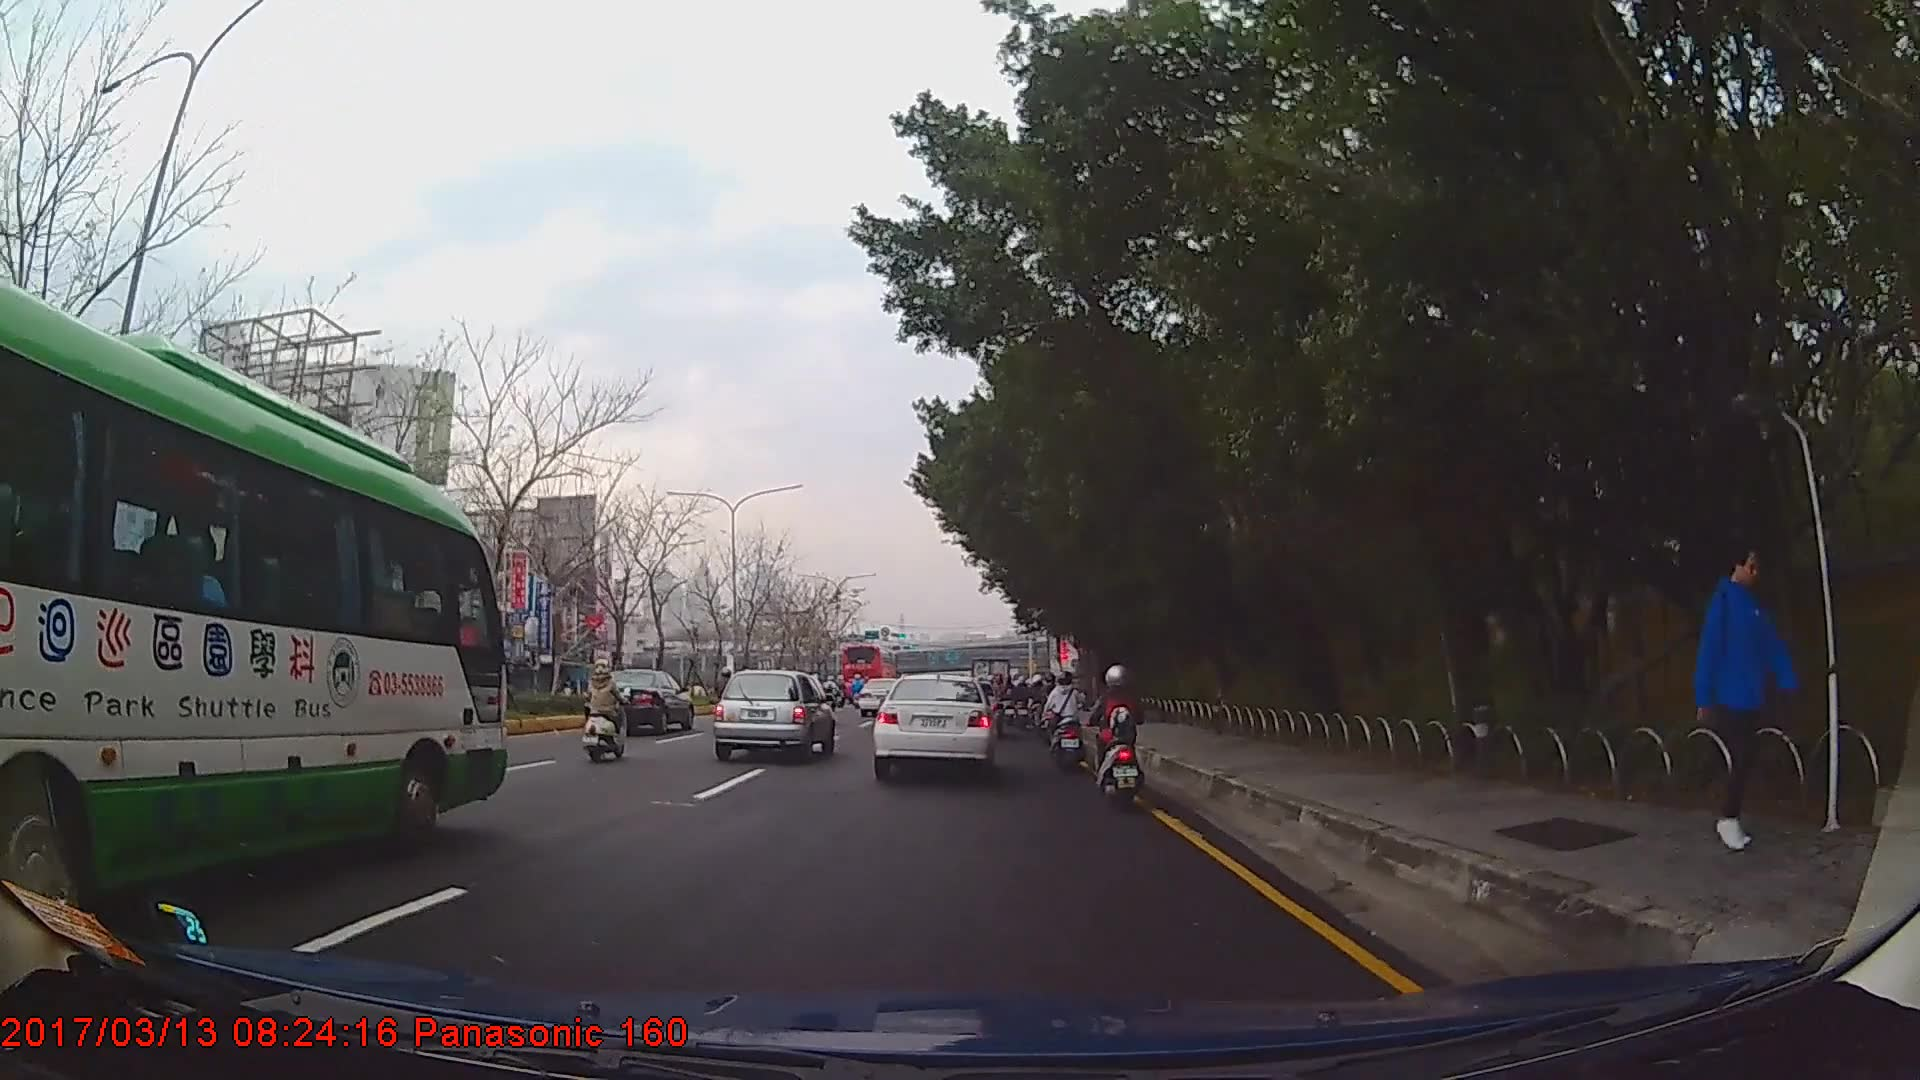pedestrian: (1694, 545, 1788, 850)
rider: (1093, 665, 1148, 809), (1044, 661, 1088, 766), (585, 663, 631, 760), (1039, 672, 1060, 750)
vehicle: (0, 271, 508, 942), (872, 672, 997, 778), (713, 666, 835, 758), (582, 667, 692, 735), (834, 640, 899, 699)
